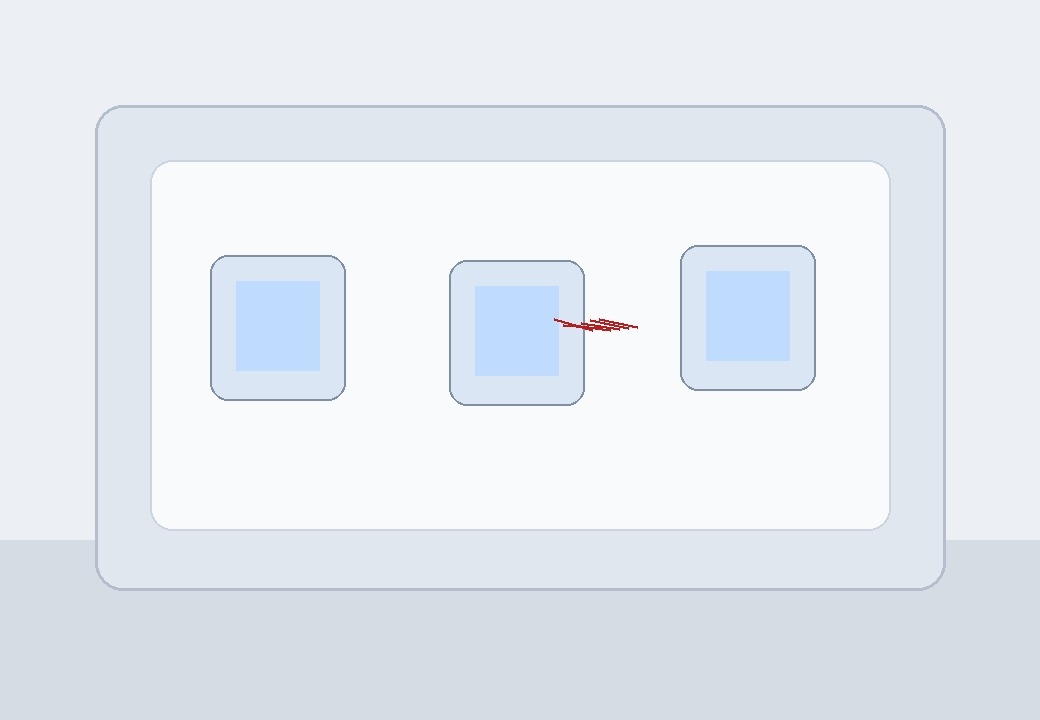dent: (500, 310, 585, 366)
ok_region: (269, 260, 399, 390)
scratch: (320, 285, 430, 330)
stain: (684, 245, 779, 307)
